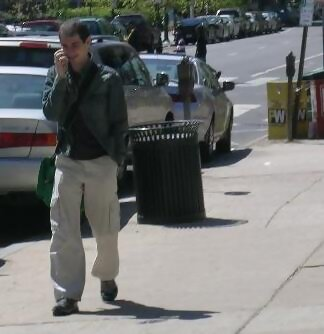person: (44, 17, 136, 316)
